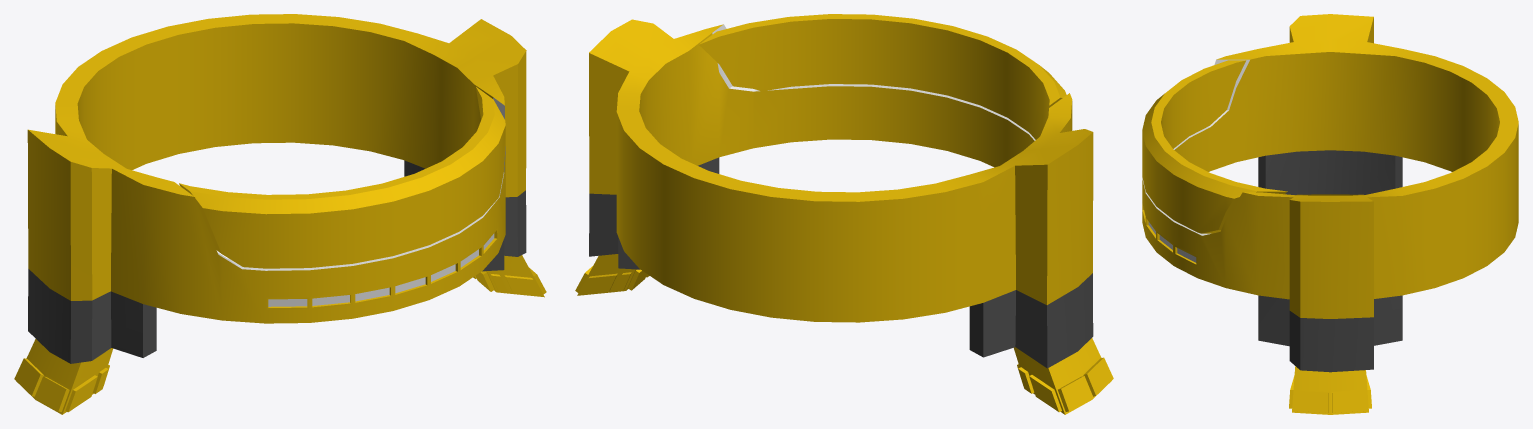
Rendered from RingV2.fbx.
3 renders of one model, left to right at view 1: azimuth 30°, elevation 25°; view 2: azimuth 150°, elevation 25°; view 3: azimuth 270°, elevation 25°, orthographic. The views are drawn at different scales.
Visible parts, largest first — view 1: Circle; view 2: Circle; view 3: Circle.
Boxes of the visible parts, left/top/right/bottom form: Circle: left=14, top=14, right=546, bottom=414; Circle: left=575, top=14, right=1113, bottom=414; Circle: left=1142, top=14, right=1518, bottom=414.
Size of the model in its own units: 281 by 135 by 222.
